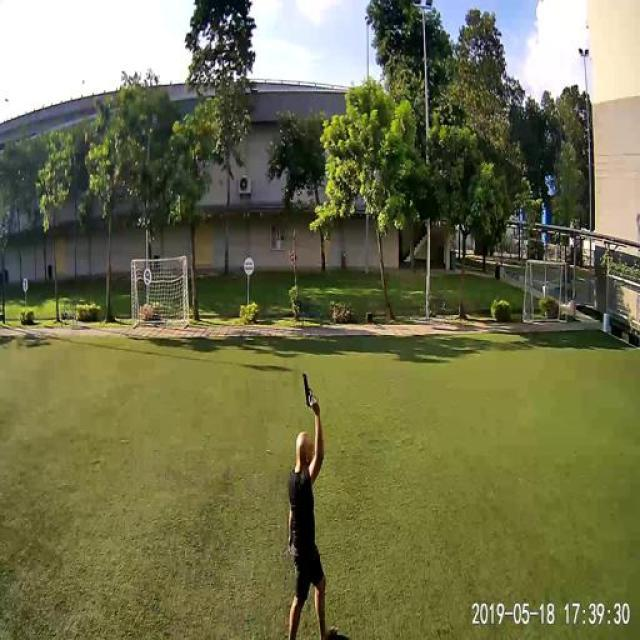Gun: (296, 366, 328, 419)
